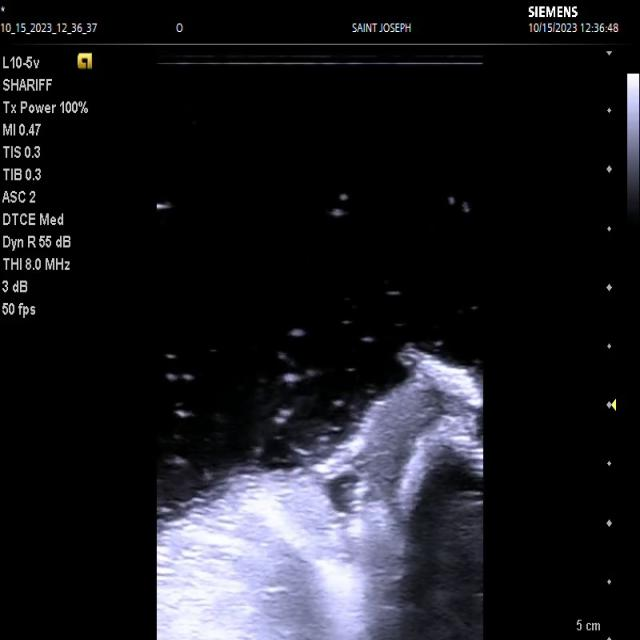tissue: (157, 351, 482, 640)
